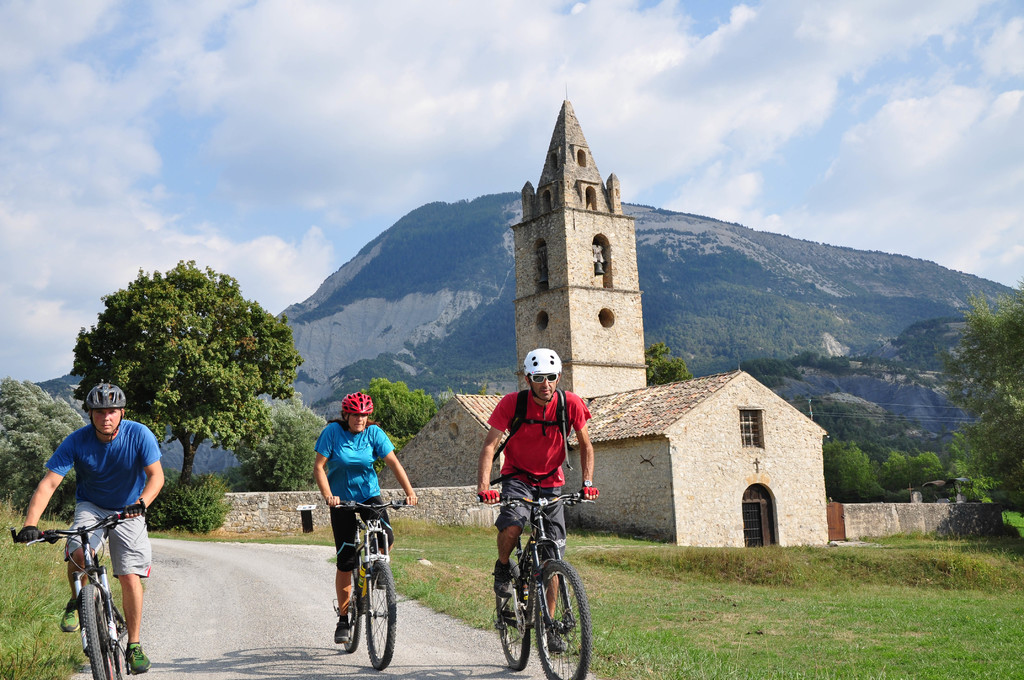Bike: (11, 508, 161, 678), (479, 491, 602, 676), (323, 493, 419, 672)
